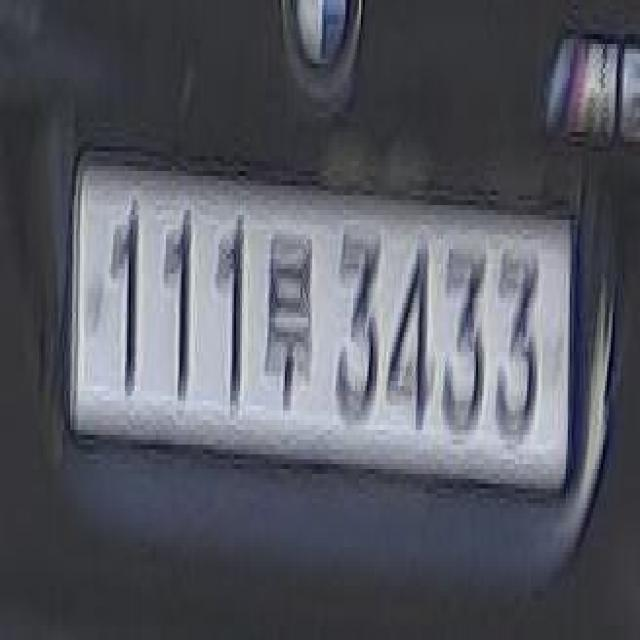illegal_plate: (71, 142, 575, 525)
